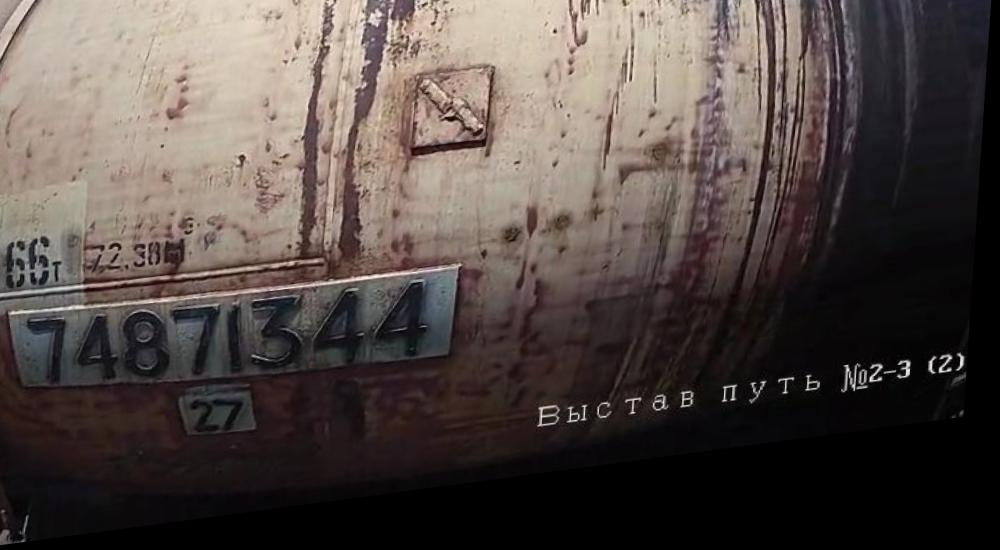Wagon-number: (23, 271, 442, 415)
